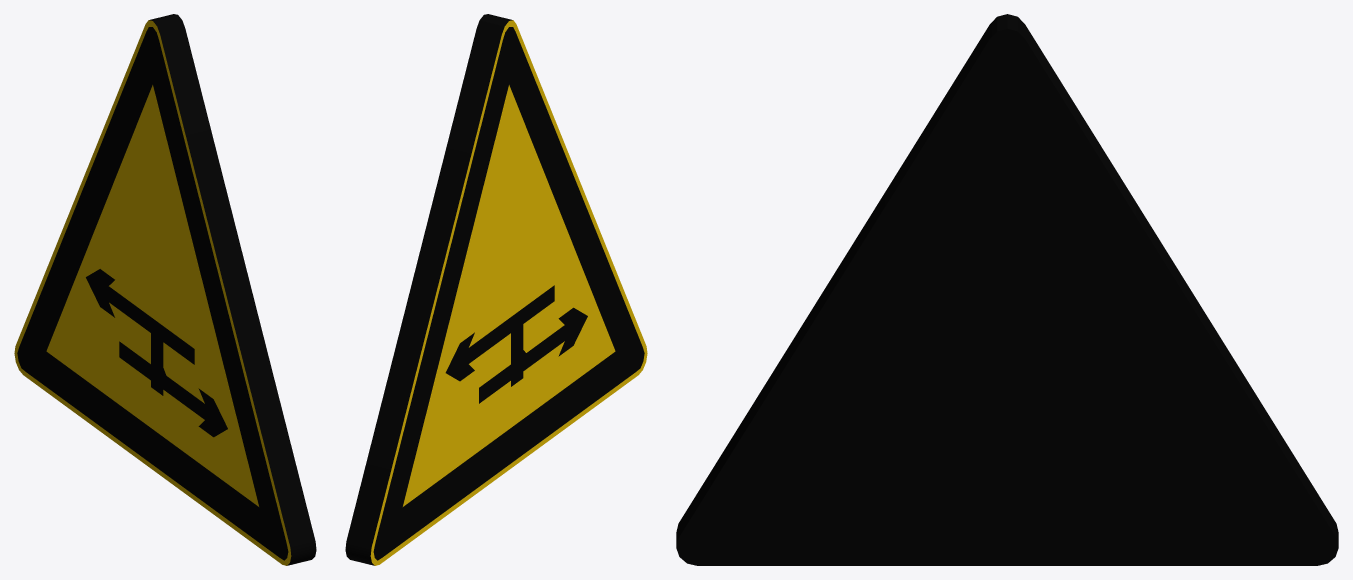
File: Ding_Flat_Crossing.fbx
3 views of the same model, side by side, from view 1: azimuth 30°, elevation 25°; view 2: azimuth 150°, elevation 25°; view 3: azimuth 270°, elevation 25° (orthographic). The views are drawn at different scales.
Parts seen in each view (by area): view 1: Ding_Flat_Crossing; view 2: Ding_Flat_Crossing; view 3: Ding_Flat_Crossing.
Boxes of the visible parts, x1=… form: Ding_Flat_Crossing: x1=14, y1=14, x2=316, y2=565; Ding_Flat_Crossing: x1=345, y1=14, x2=647, y2=565; Ding_Flat_Crossing: x1=676, y1=14, x2=1338, y2=565.
Bounding box in the file's own units: 0.0643 × 1.02 × 1.14.
